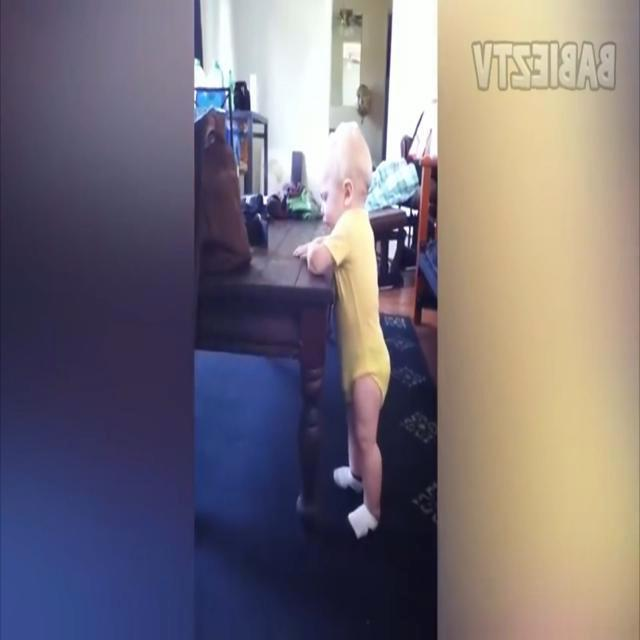child: (291, 124, 391, 543)
